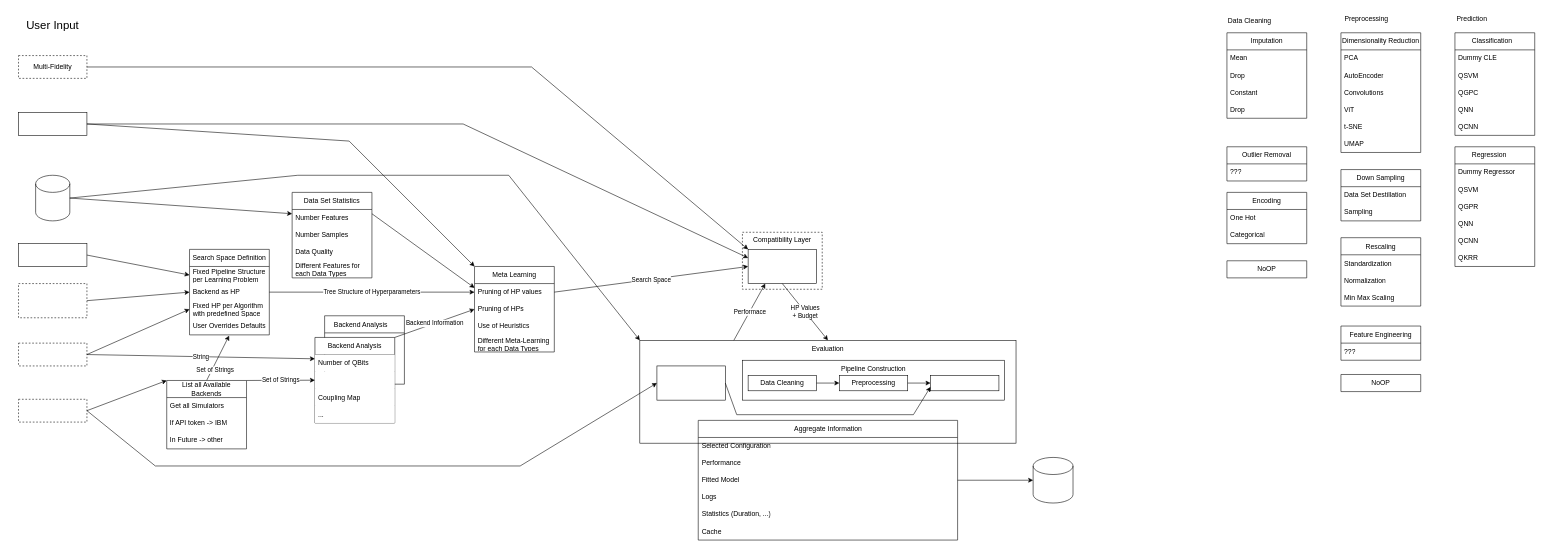
Some shapes in this 1545 by 550 pixel diagram are drawn without their labels. The shapes that lost their labels are listed below. From the top down, each one's centre as x and y in pixels, then its label:
point (52, 123): Budget
point (52, 198): Data
point (52, 254): Learning Problem
point (782, 266): Ray Optimizer
point (52, 300): User-provided HP values
point (52, 354): Backend
point (354, 379): Error Map
point (690, 382): Executor Construction
point (964, 383): Prediction (sQULearn)
point (52, 410): API Token
point (1053, 480): Persistence
